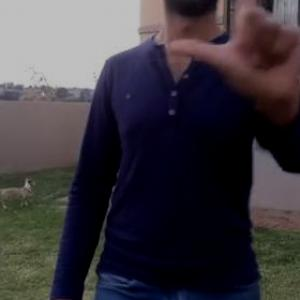land_hand: (160, 0, 299, 114)
